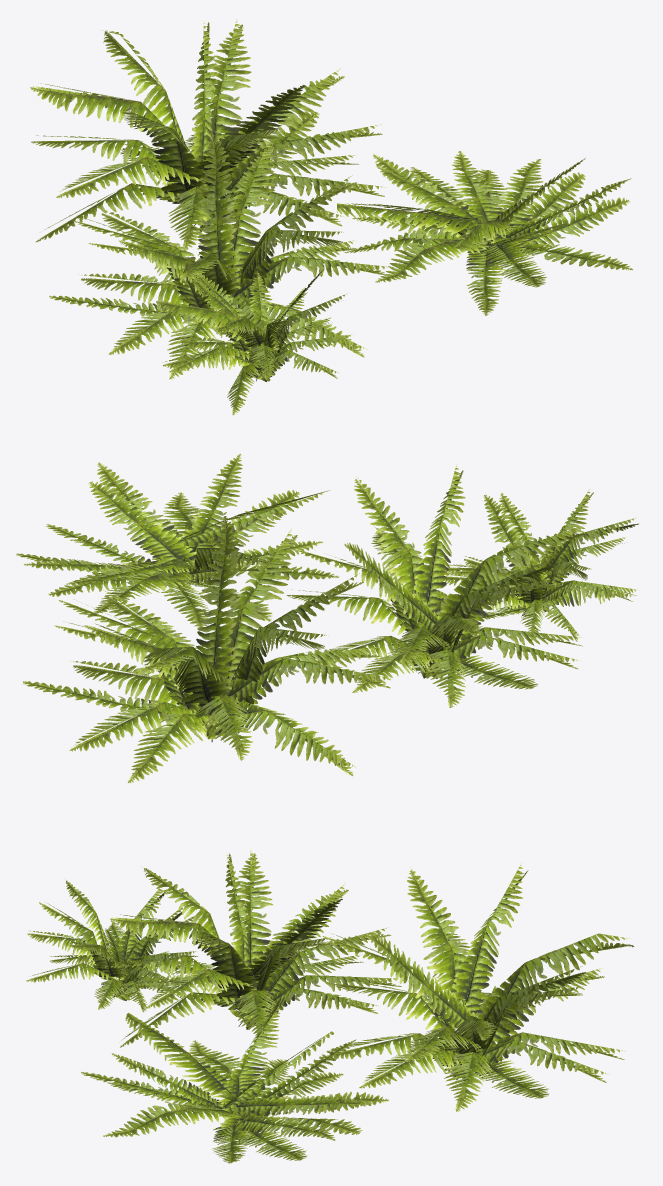
The model's file is samambaia_capim.gltf.
The picture shows the model from 3 angles, top to bottom: view 1: azimuth 30°, elevation 25°; view 2: azimuth 150°, elevation 25°; view 3: azimuth 270°, elevation 25°; orthographic projection. The views are drawn at different scales.
Parts seen in each view (by area): view 1: samambaia_capim; view 2: samambaia_capim; view 3: samambaia_capim.
Part boxes in pixels (<box>): samambaia_capim: <box>30,18,632,414</box>; samambaia_capim: <box>16,453,639,782</box>; samambaia_capim: <box>26,848,634,1163</box>.
Size of the model in its own units: 1.28 by 0.4221 by 1.38.
1 material, 1 textured.
